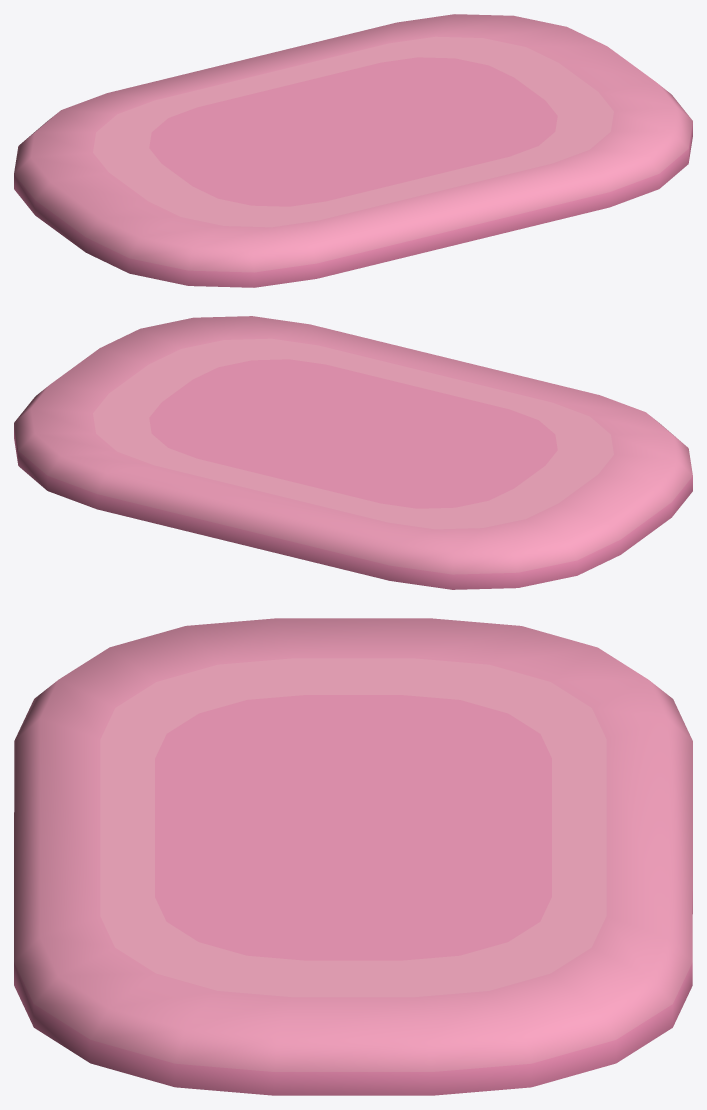
Rendered from tinytreats_mat.glb.
3 views of the same model, one above another, from view 1: azimuth 30°, elevation 25°; view 2: azimuth 150°, elevation 25°; view 3: azimuth 270°, elevation 25° (orthographic). The views are drawn at different scales.
Visible parts, largest first — view 1: mat; view 2: mat; view 3: mat.
Part boxes in pixels (left/top/right/bottom): mat: left=14, top=14, right=692, bottom=287; mat: left=14, top=316, right=692, bottom=589; mat: left=14, top=618, right=692, bottom=1095.
Size of the model in its own units: 2 by 0.1 by 1.3.
1 material, 1 textured.
